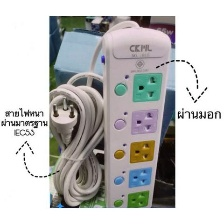three_eye_plug: (94, 19, 173, 213)
